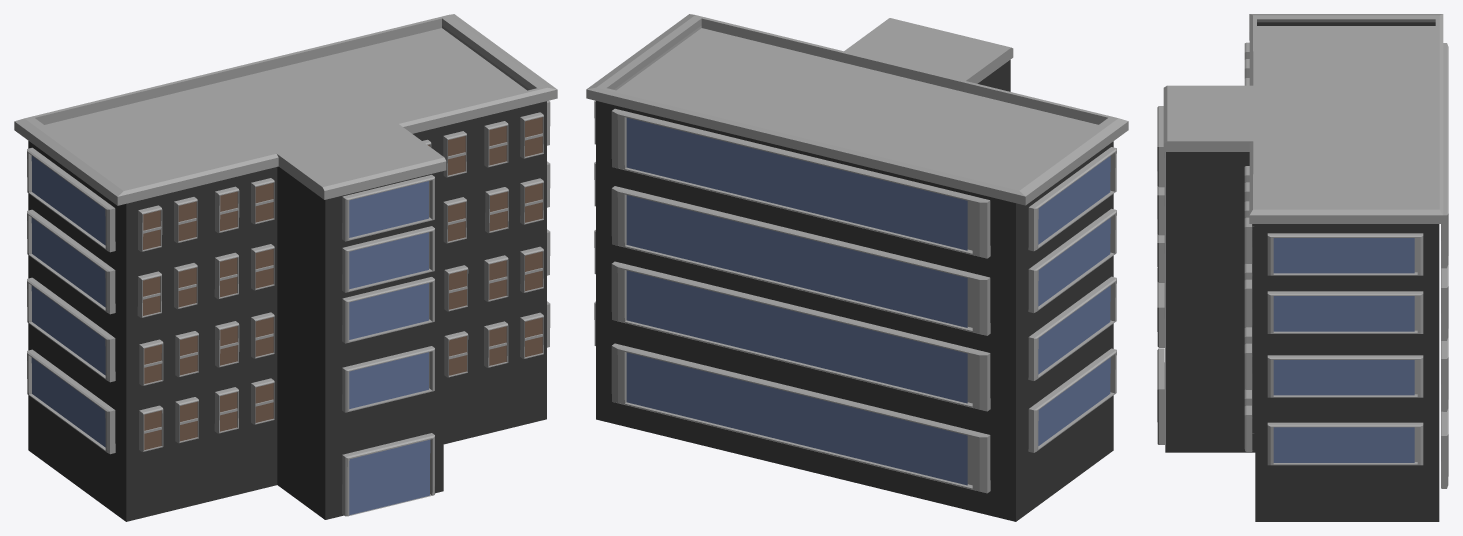
Rendered from Apartments4.fbx.
3 renders of one model, left to right at view 1: azimuth 30°, elevation 25°; view 2: azimuth 150°, elevation 25°; view 3: azimuth 270°, elevation 25°, orthographic. The views are drawn at different scales.
Parts seen in each view (by area): view 1: pCube40, polySurface49, polySurface18, polySurface367, polySurface368, polySurface369, polySurface366, polySurface302, polySurface16, polySurface304, polySurface307, polySurface17 (+11 smaller); view 2: pCube40, polySurface49, polySurface351, polySurface352, polySurface348, polySurface350, polySurface368, polySurface369, polySurface367, polySurface366; view 3: pCube40, polySurface49, polySurface365, polySurface363, polySurface361, polySurface364, polySurface348, polySurface17, polySurface352, polySurface15, polySurface350, polySurface351 (+7 smaller).
Part boxes in pixels (<box>): pCube40: <box>28,101,546,521</box>; polySurface49: <box>14,14,557,205</box>; polySurface18: <box>349,439,430,515</box>; polySurface367: <box>27,209,115,314</box>; polySurface368: <box>27,277,115,382</box>; polySurface369: <box>27,349,115,454</box>; polySurface366: <box>27,147,115,252</box>; polySurface302: <box>349,232,428,289</box>; polySurface16: <box>349,181,428,237</box>; polySurface304: <box>349,283,428,339</box>; polySurface307: <box>349,352,428,408</box>; polySurface17: <box>342,433,434,516</box>; pCube40: <box>596,60,1113,521</box>; polySurface49: <box>586,14,1128,205</box>; polySurface351: <box>611,261,990,411</box>; polySurface352: <box>611,343,990,493</box>; polySurface348: <box>611,108,990,258</box>; polySurface350: <box>611,186,990,335</box>; polySurface368: <box>1028,276,1116,380</box>; polySurface369: <box>1028,348,1116,452</box>; polySurface367: <box>1028,208,1116,313</box>; polySurface366: <box>1028,147,1116,251</box>; pCube40: <box>1165,22,1439,521</box>; polySurface49: <box>1163,14,1443,223</box>; polySurface365: <box>1267,422,1423,465</box>; polySurface363: <box>1267,291,1423,333</box>; polySurface361: <box>1267,233,1423,275</box>; polySurface364: <box>1267,355,1423,397</box>; polySurface348: <box>1441,43,1448,268</box>; polySurface17: <box>1157,348,1164,444</box>; polySurface352: <box>1441,400,1448,488</box>; polySurface15: <box>1157,106,1164,187</box>; polySurface350: <box>1441,256,1448,340</box>; polySurface351: <box>1441,329,1448,411</box>.
Size of the model in its own units: 77.67 by 55.62 by 47.05.
